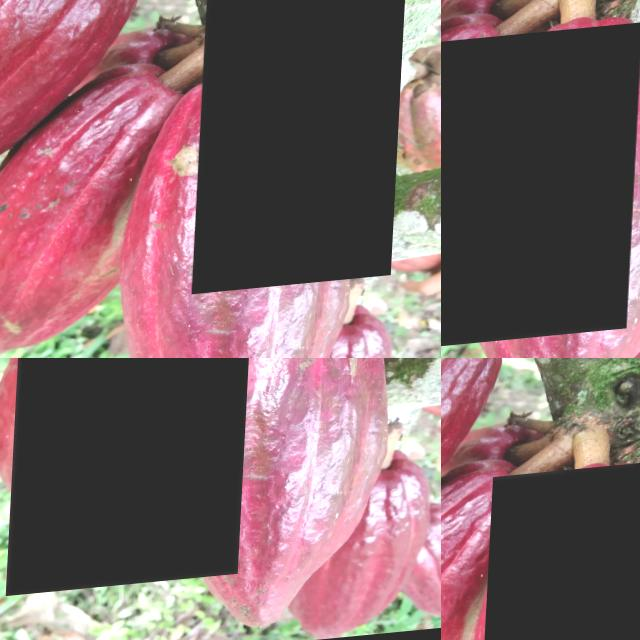Fitoftora: (196, 0, 409, 300)
Monilia: (441, 31, 640, 357), (12, 358, 259, 598)
Sana: (241, 358, 441, 515), (478, 465, 640, 640), (441, 358, 507, 599), (441, 457, 522, 640), (0, 358, 12, 423)
